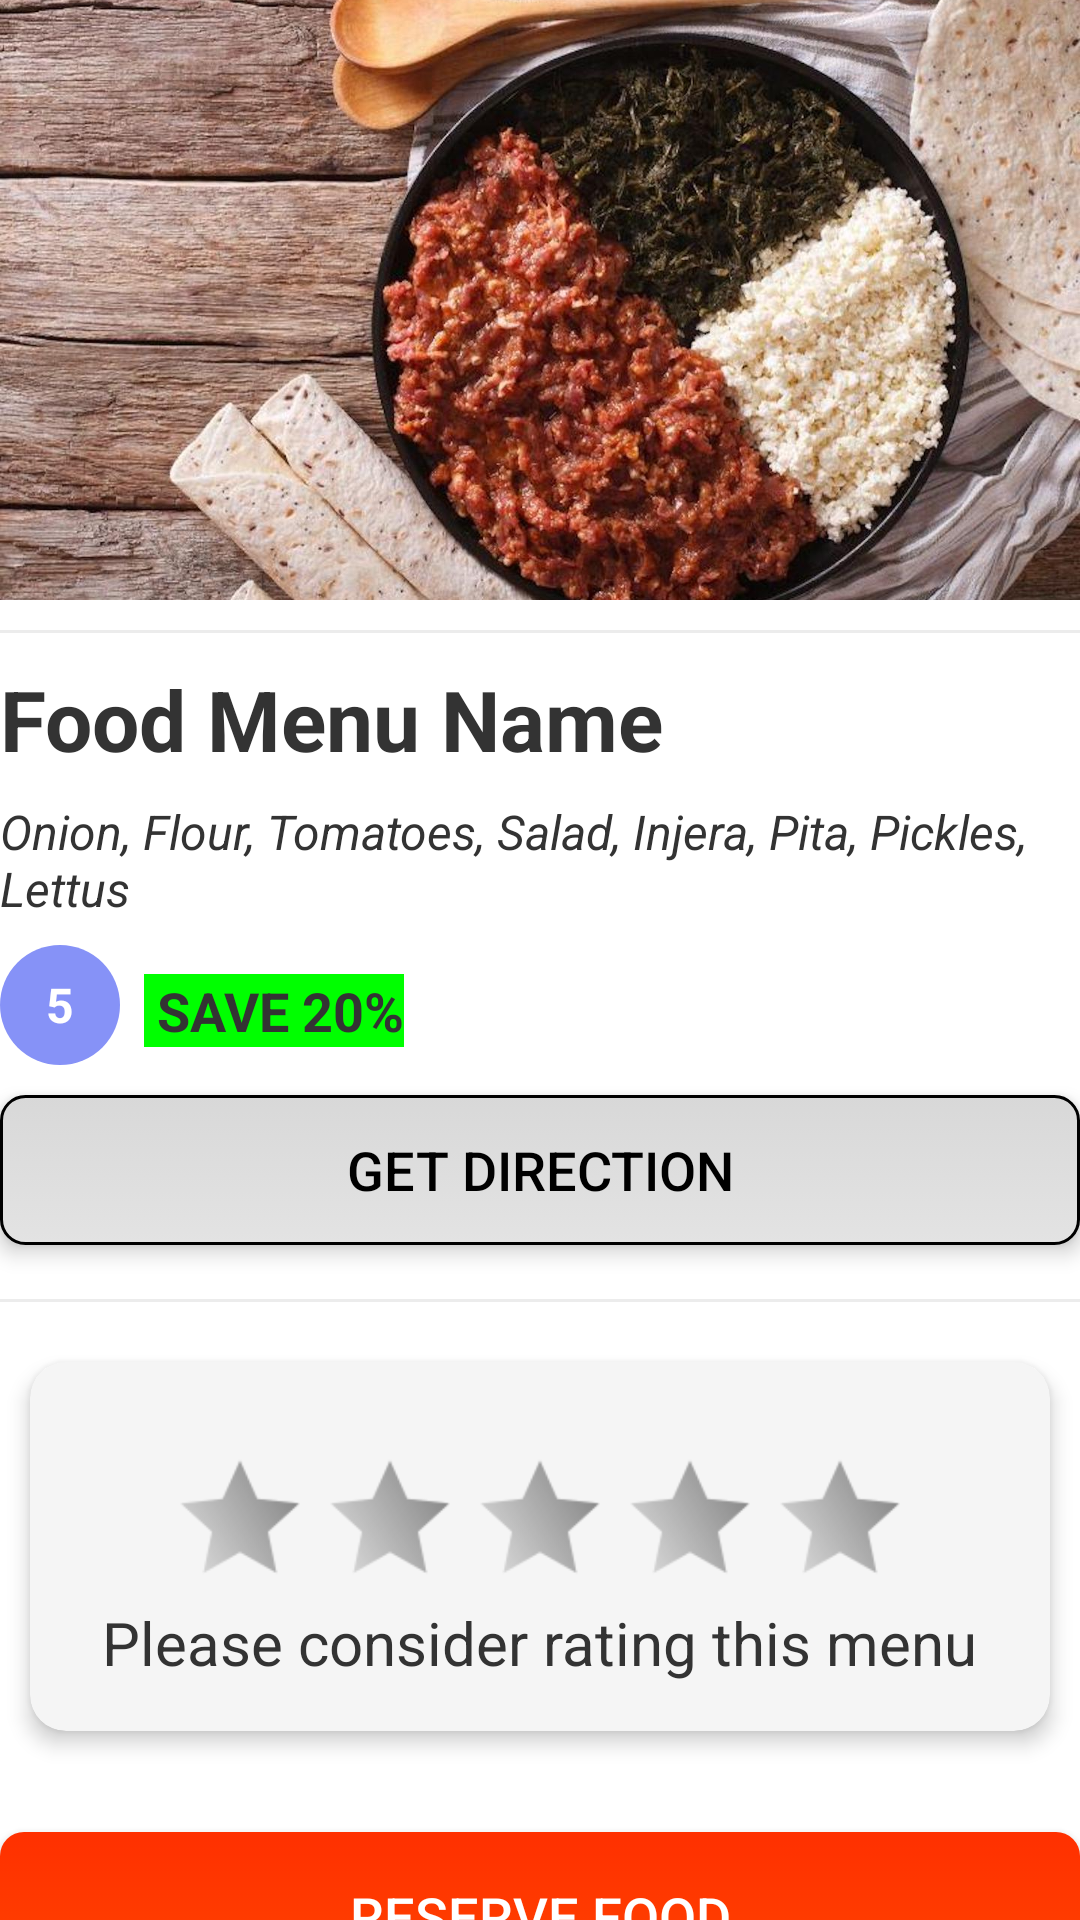

Icons on this 1080w x 1920h Android screen, each with the point to tap as [x,y]:
empty star: [241,1517], [391,1517], [541,1517], [691,1517], [841,1517]
